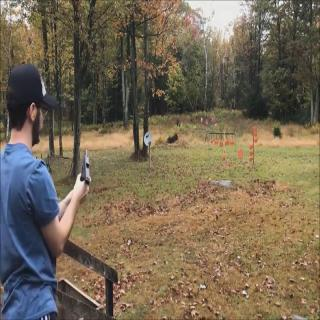gun: (66, 144, 100, 208)
